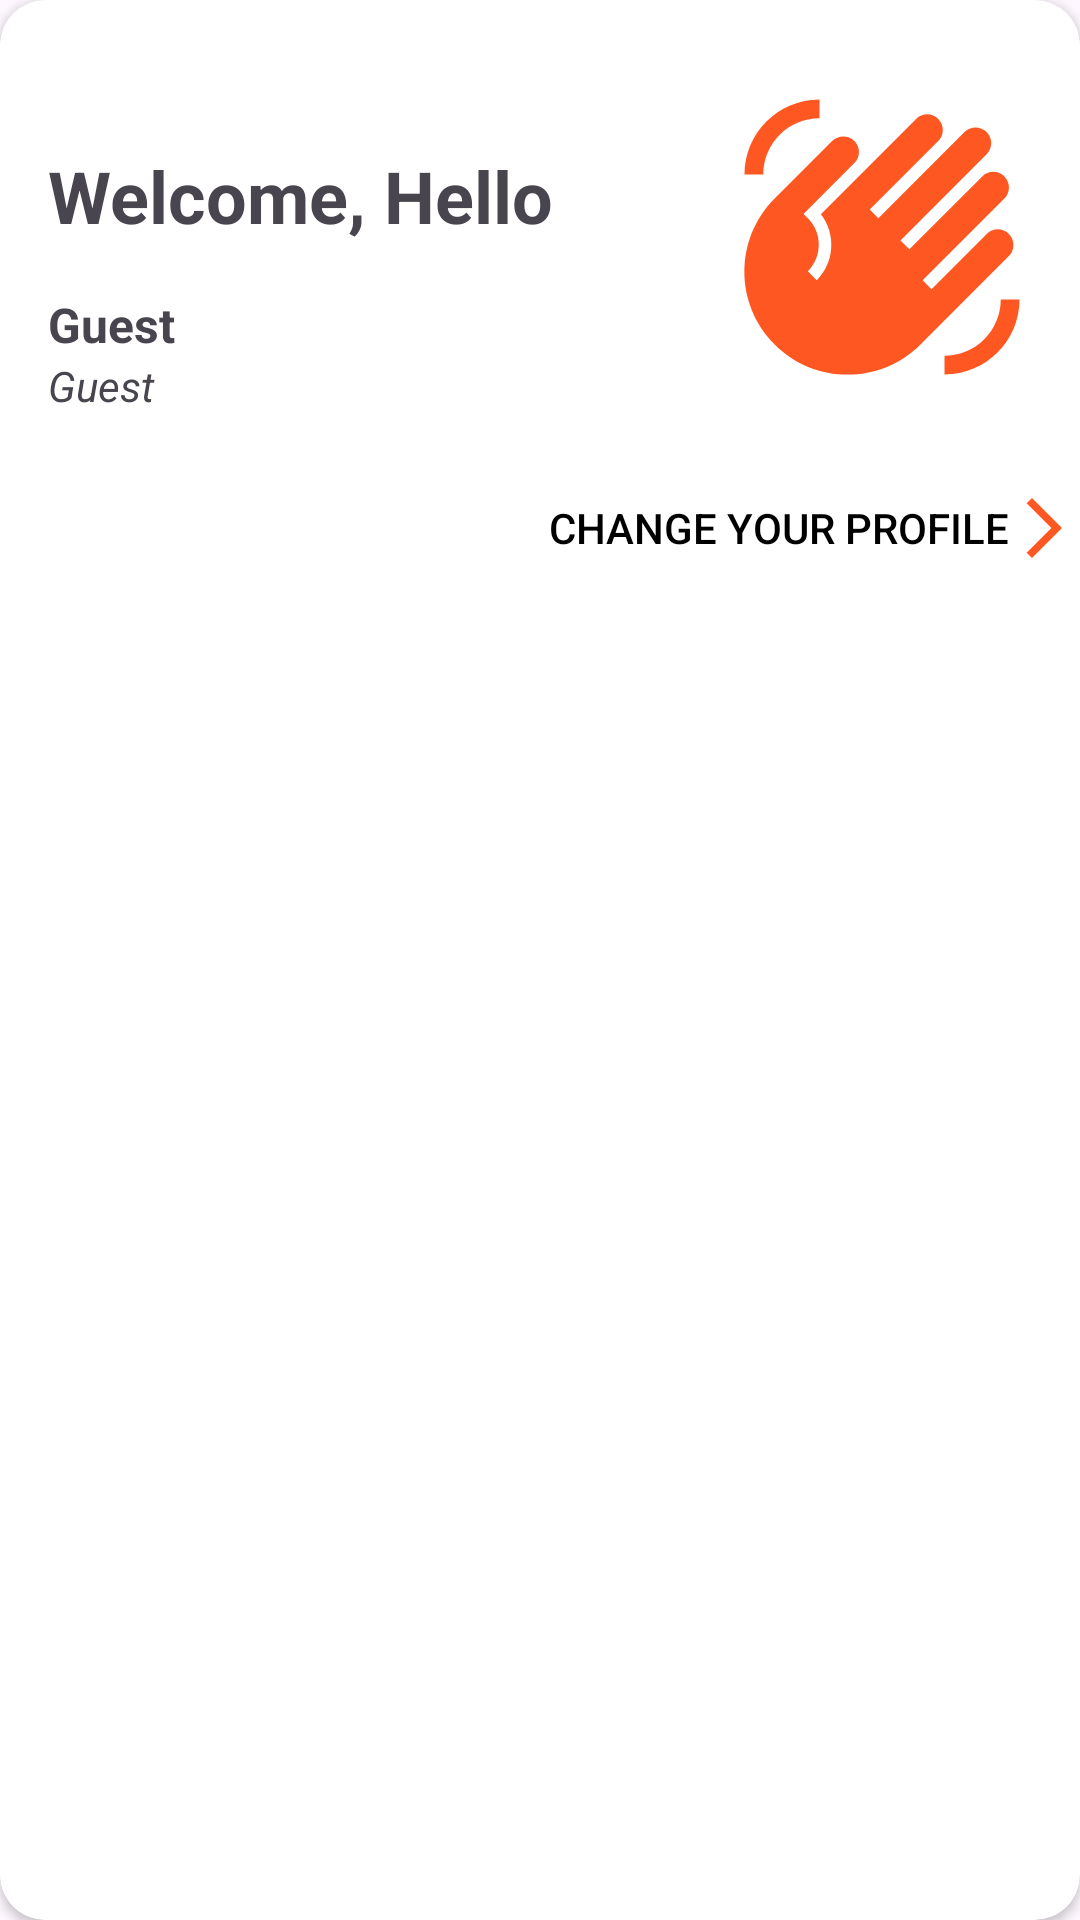

Screen size 1080×1920. Icon name, then its box in pixels as bbox=(x1, y1, x2, y2):
waving hand: bbox=(744, 99, 1020, 375)
